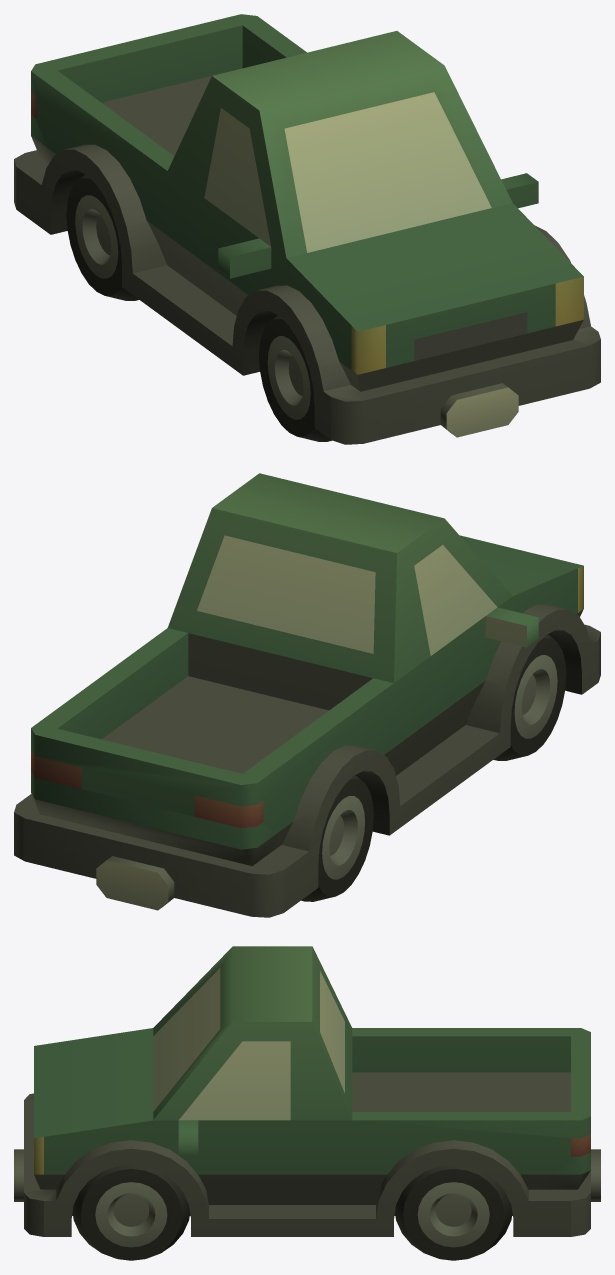
The model's file is gun_jeep.glb.
3 renders of one model, top to bottom at view 1: azimuth 30°, elevation 25°; view 2: azimuth 150°, elevation 25°; view 3: azimuth 270°, elevation 25°, orthographic. The views are drawn at different scales.
Visible parts, largest first — view 1: body, wheel-front-right, wheel-back-right; view 2: body, wheel-front-right, wheel-back-right; view 3: body, wheel-back-left, wheel-front-left.
Boxes of the visible parts, x1=… form: body: x1=14, y1=14, x2=600, y2=444; wheel-front-right: x1=259, y1=315, x2=331, y2=441; wheel-back-right: x1=66, y1=174, x2=138, y2=300; body: x1=14, y1=473, x2=600, y2=917; wheel-front-right: x1=493, y1=634, x2=566, y2=760; wheel-back-right: x1=301, y1=775, x2=373, y2=901; body: x1=14, y1=946, x2=600, y2=1236; wheel-back-left: x1=395, y1=1165, x2=512, y2=1260; wheel-front-left: x1=72, y1=1165, x2=189, y2=1260.
Size of the model in its own units: 2.24 by 1.94 by 4.4.
Materials: 1 (1 with a texture image).
